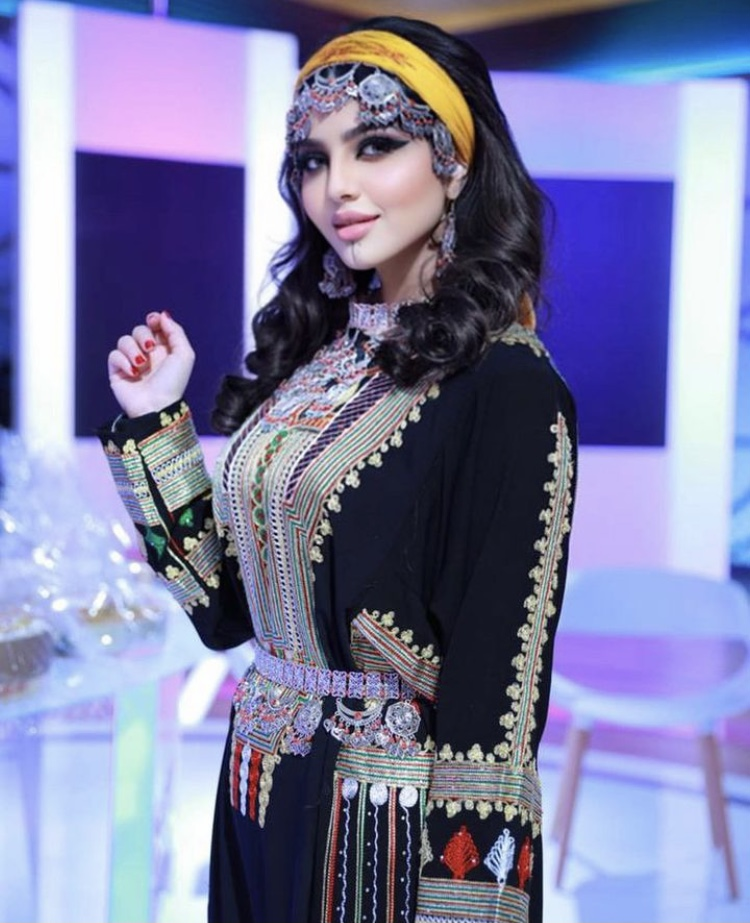Saudi_Founding_Day: (95, 12, 585, 923)
